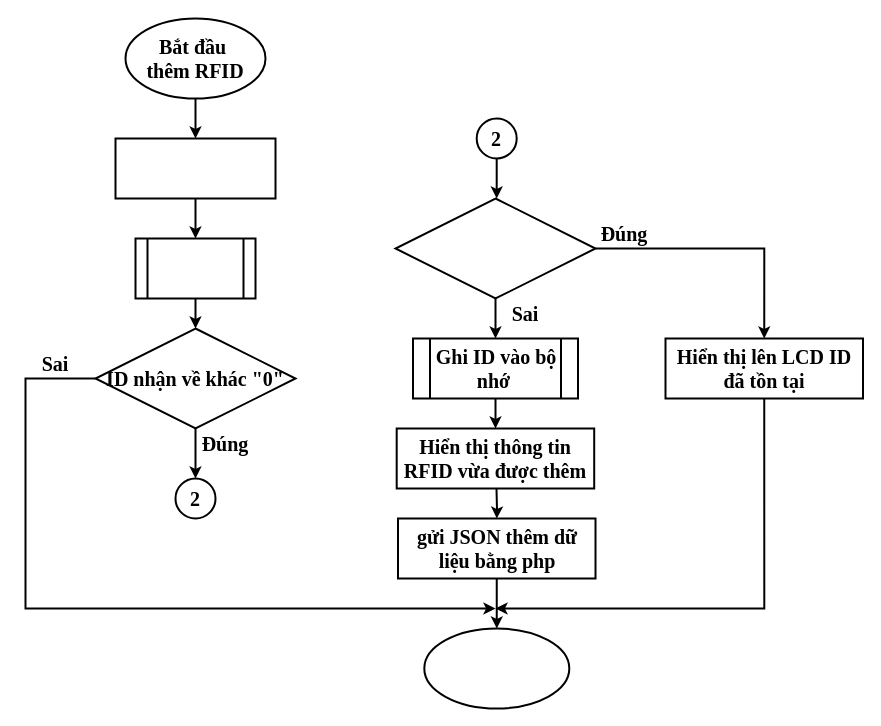
The diagram is 881 pixels wide and 726 high, and some of its shapes have lost their labels. The centre of each missing label's shape, as x and y in pixels:
Hiển thị menu thêm RFID: (x=195, y=168)
ID có trong bộ nhớ: (x=495, y=248)
Kết thúc thêm RFID: (x=496, y=668)
Lấy ID: (x=195, y=268)
